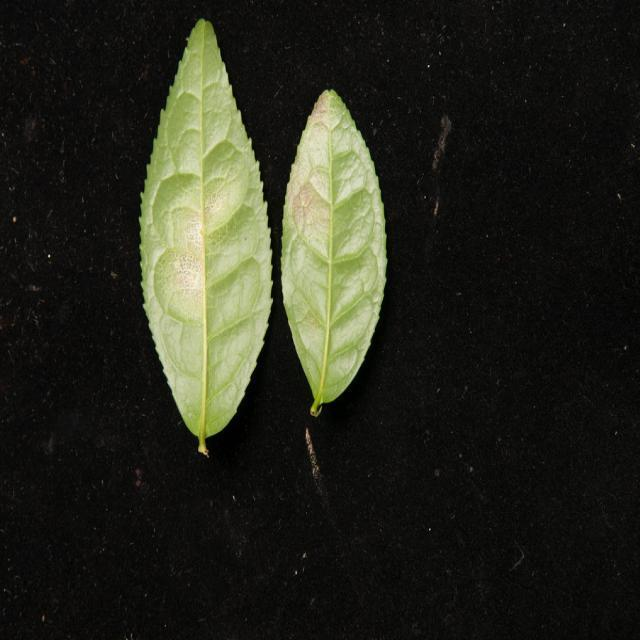Tea exobasidium blight: (286, 114, 367, 246), (166, 169, 239, 310)
